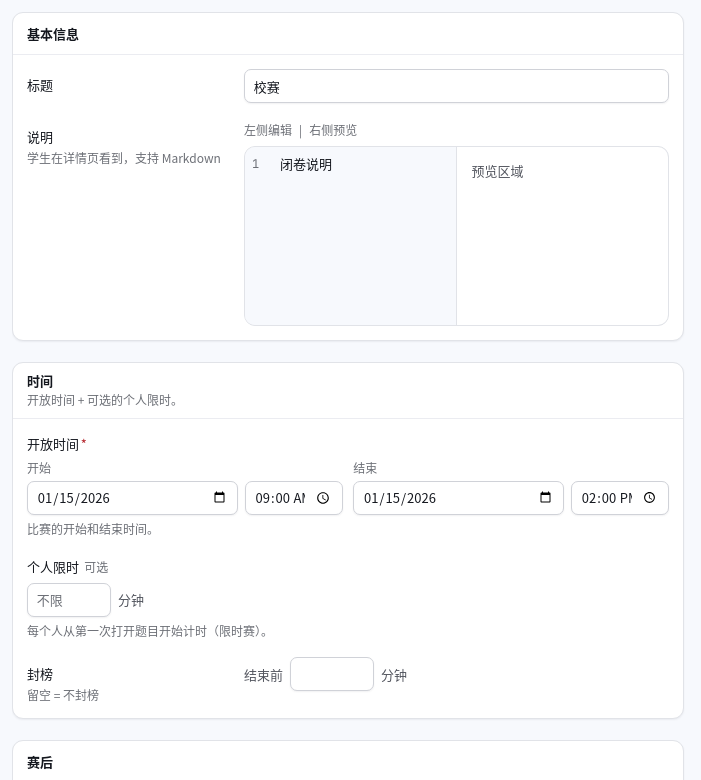
Test: contest and exam settings › disables personal time while an acm lock is set and restores both directions
Expected: the heading "基本信息" is shown, [27,24,79,43]
Expected: the heading "时间" is shown, [27,371,53,390]
Type "60" into the field labelled "封榜" at x=332, y=674, box [290,657,374,691]
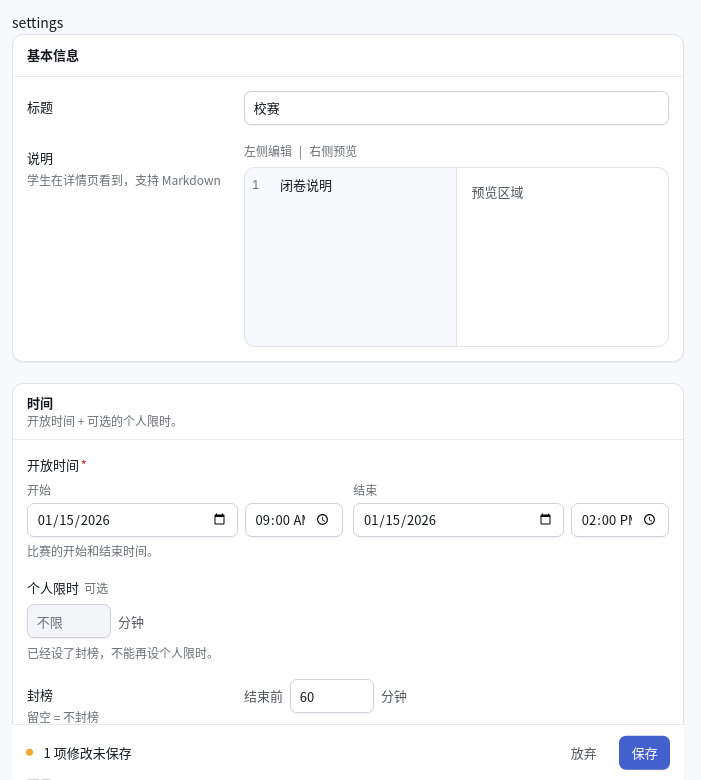
Expected: the number field labelled "个人限时" is disabled, [27,604,111,638]
Expected: the text "已经设了封榜，不能再设个人限时。" is shown, [27,644,219,661]
Expected: the text "每个人从第一次打开题目开始计时（限时赛）。" is gone
Clear the field labelled "封榜" at x=332, y=696, box [290,679,374,713]
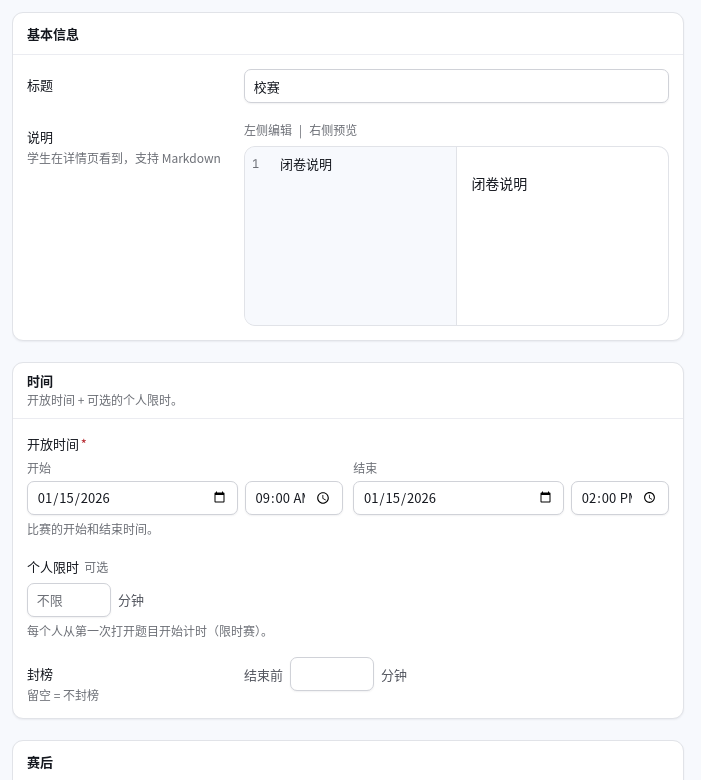
Expected: the number field labelled "个人限时" is enabled
Expected: the text "已经设了封榜，不能再设个人限时。" is gone
Expected: the text "每个人从第一次打开题目开始计时（限时赛）。" is shown, [27,622,273,639]
Type "90" into the number field labelled "个人限时" at x=69, y=600, box [27,583,111,617]
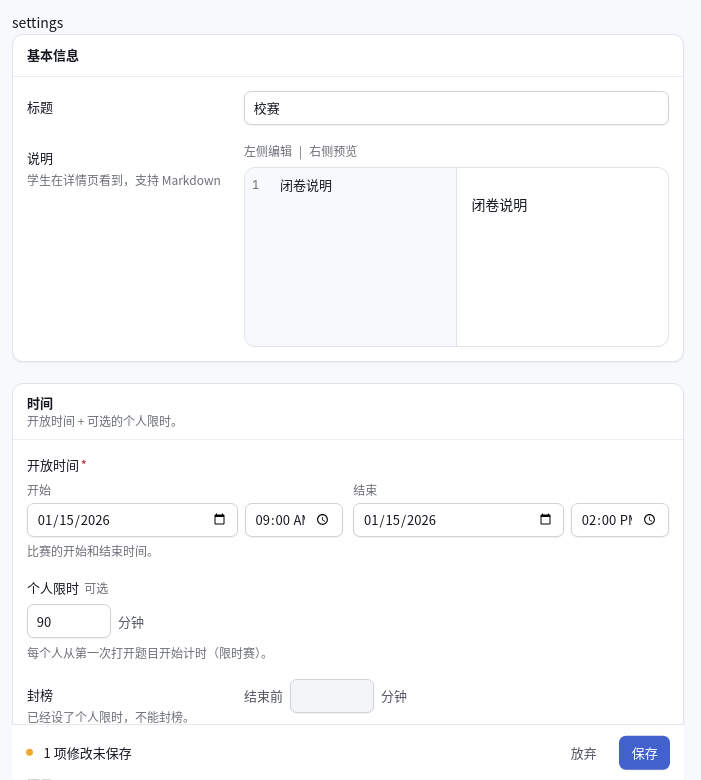
Expected: the field labelled "封榜" is disabled, [290,679,374,713]
Expected: the text "已经设了个人限时，不能封榜。" is shown, [27,708,223,726]
Expected: the text "留空 = 不封榜" is gone
Clear the number field labelled "个人限时" at x=69, y=621, box [27,604,111,638]
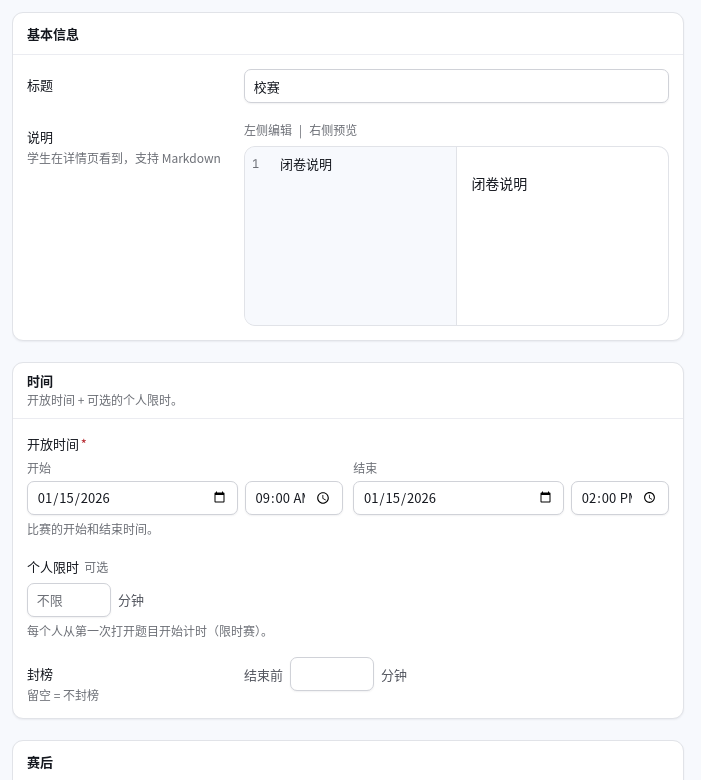
Expected: the field labelled "封榜" is enabled, [290,657,374,691]
Expected: the text "留空 = 不封榜" is shown, [27,686,99,703]
Expected: the text "已经设了个人限时，不能封榜。" is gone
